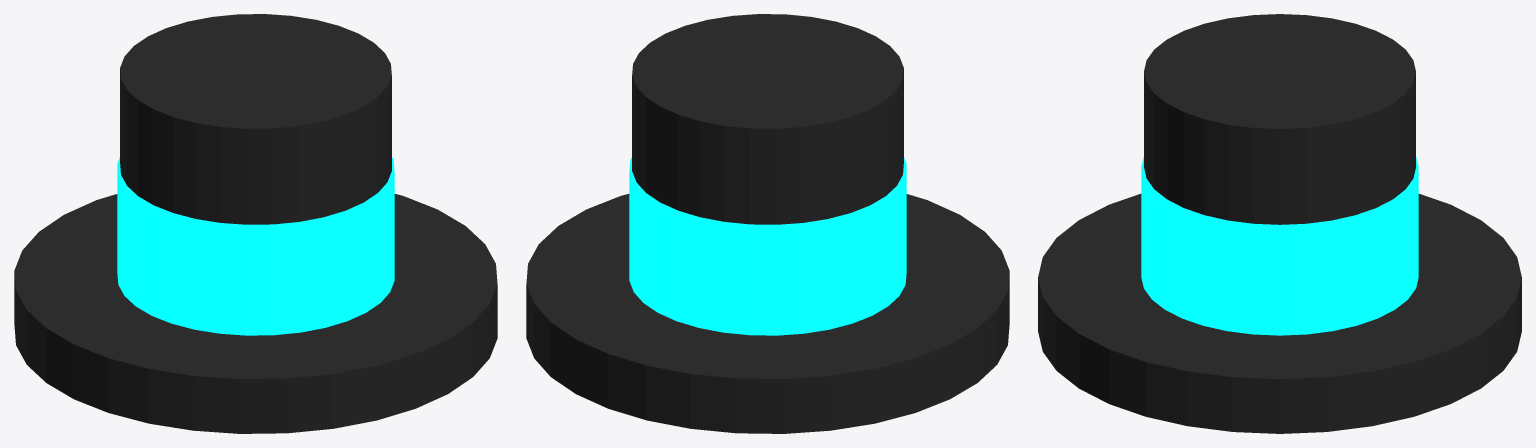
File: SM_Minime_Equalizer_Hat.glb
3 renders of one model, left to right at view 1: azimuth 30°, elevation 25°; view 2: azimuth 150°, elevation 25°; view 3: azimuth 270°, elevation 25°, orthographic.
Visible parts, largest first — view 1: SM_Minime_Equalizer_Hat; view 2: SM_Minime_Equalizer_Hat; view 3: SM_Minime_Equalizer_Hat.
Boxes of the visible parts, box(x1,y1,x2,y2) form: SM_Minime_Equalizer_Hat: box(14, 14, 497, 433); SM_Minime_Equalizer_Hat: box(526, 14, 1009, 433); SM_Minime_Equalizer_Hat: box(1038, 14, 1521, 433).
Bounding box in the file's own units: 0.32 × 0.19 × 0.32.
